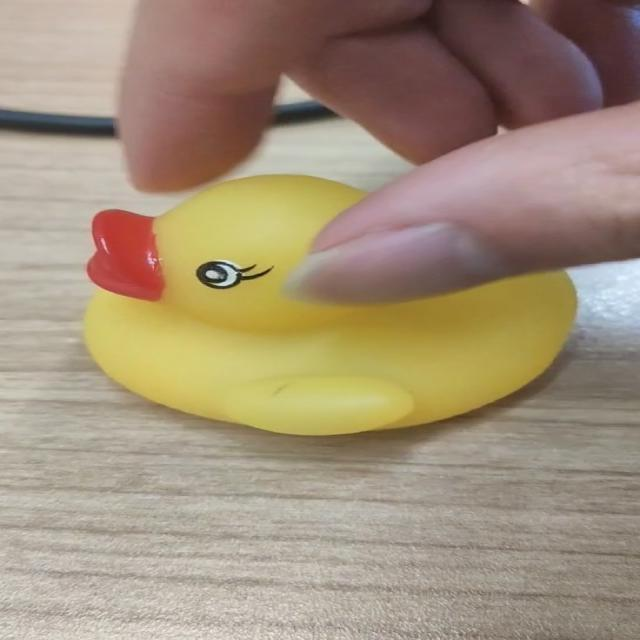rubber-duck: (84, 174, 574, 433)
